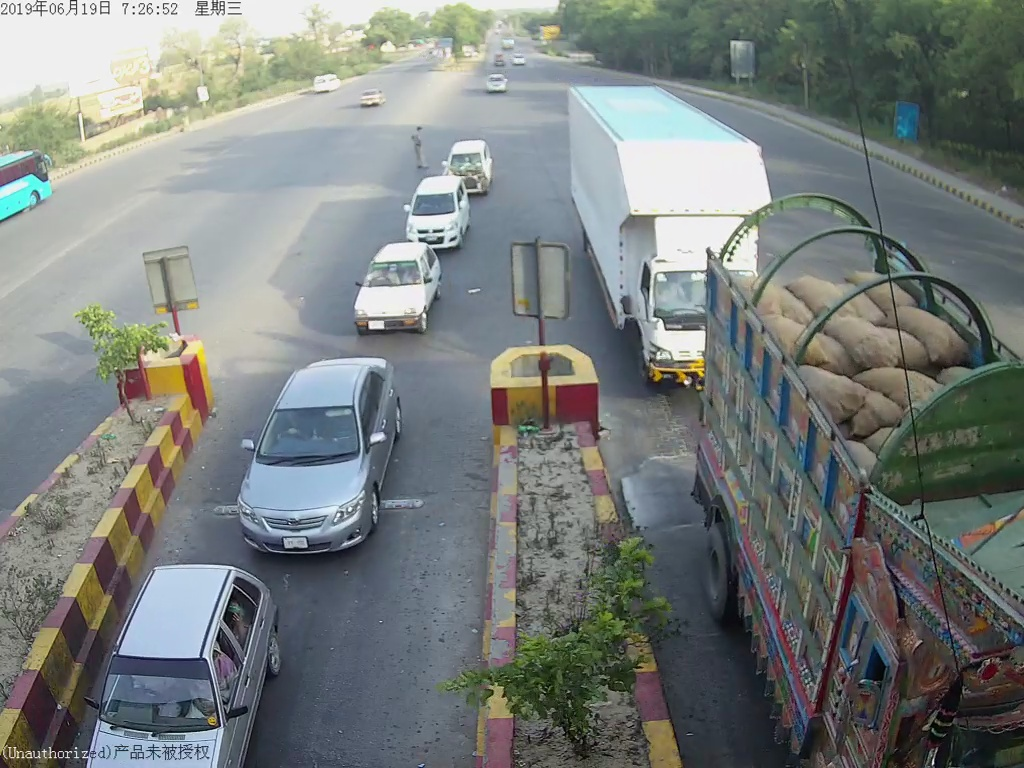Cat-1: (240, 355, 415, 564), (345, 248, 443, 336), (402, 178, 469, 245)
Cat-4: (572, 82, 766, 378)
